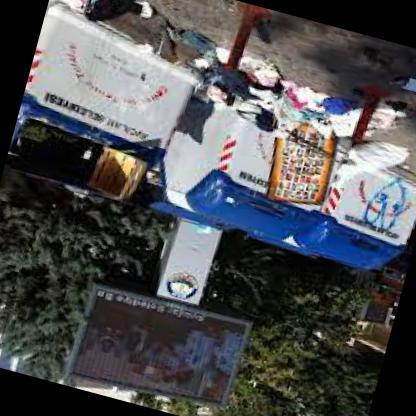Garbage: (186, 42, 304, 134), (278, 81, 392, 142), (330, 125, 402, 198), (46, 0, 139, 35)
